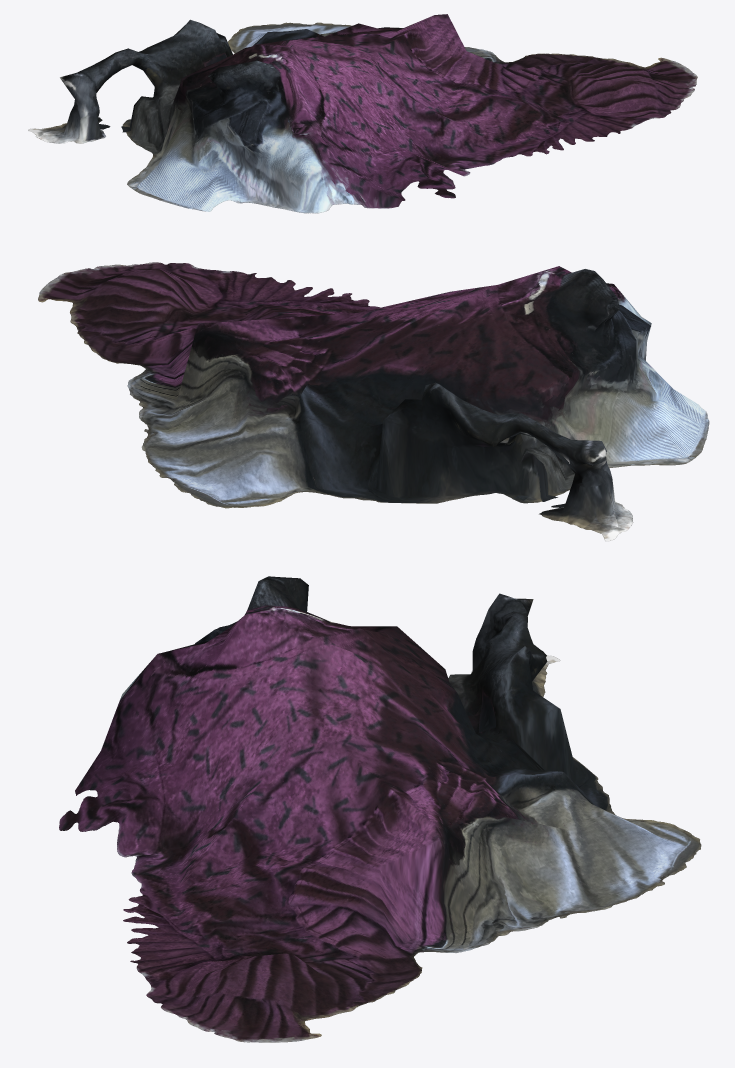
File: clothespile.fbx
The picture shows the model from 3 angles, top to bottom: view 1: azimuth 30°, elevation 25°; view 2: azimuth 150°, elevation 25°; view 3: azimuth 270°, elevation 25°; orthographic projection. The views are drawn at different scales.
Visible parts, largest first — view 1: clothespile_lowpoly; view 2: clothespile_lowpoly; view 3: clothespile_lowpoly.
Boxes of the visible parts, x1,y1,x2,y2 form: clothespile_lowpoly: (28,14,697,213); clothespile_lowpoly: (38,262,709,541); clothespile_lowpoly: (59,576,701,1042).
Size of the model in its own units: 182 by 34.35 by 135.
Materials: 1 (1 with a texture image).
